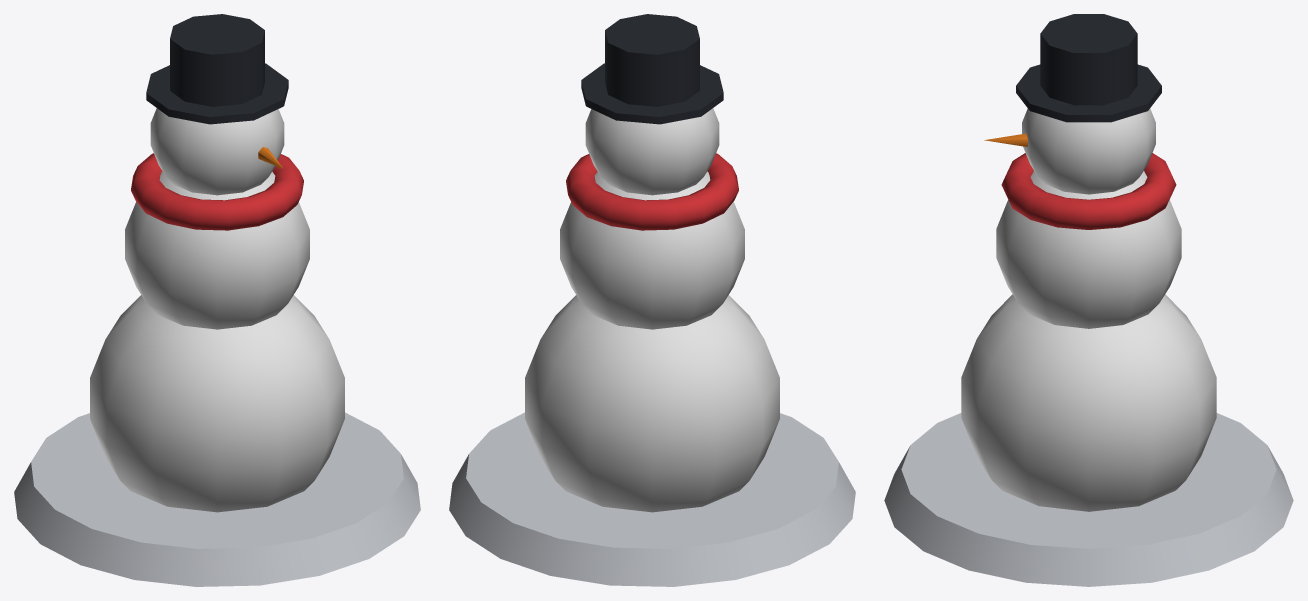
Rendered from landmark_snowman.glb.
The picture shows the model from 3 angles, left to right: view 1: azimuth 30°, elevation 25°; view 2: azimuth 150°, elevation 25°; view 3: azimuth 270°, elevation 25°; orthographic projection.
Visible parts, largest first — view 1: Landmark_snowman; view 2: Landmark_snowman; view 3: Landmark_snowman.
Part boxes in pixels (x1,y1,x2,y2): Landmark_snowman: [14, 14, 420, 586]; Landmark_snowman: [449, 14, 855, 586]; Landmark_snowman: [884, 14, 1293, 586].
Bounding box in the file's own units: 4.8 × 6.23 × 4.8.
